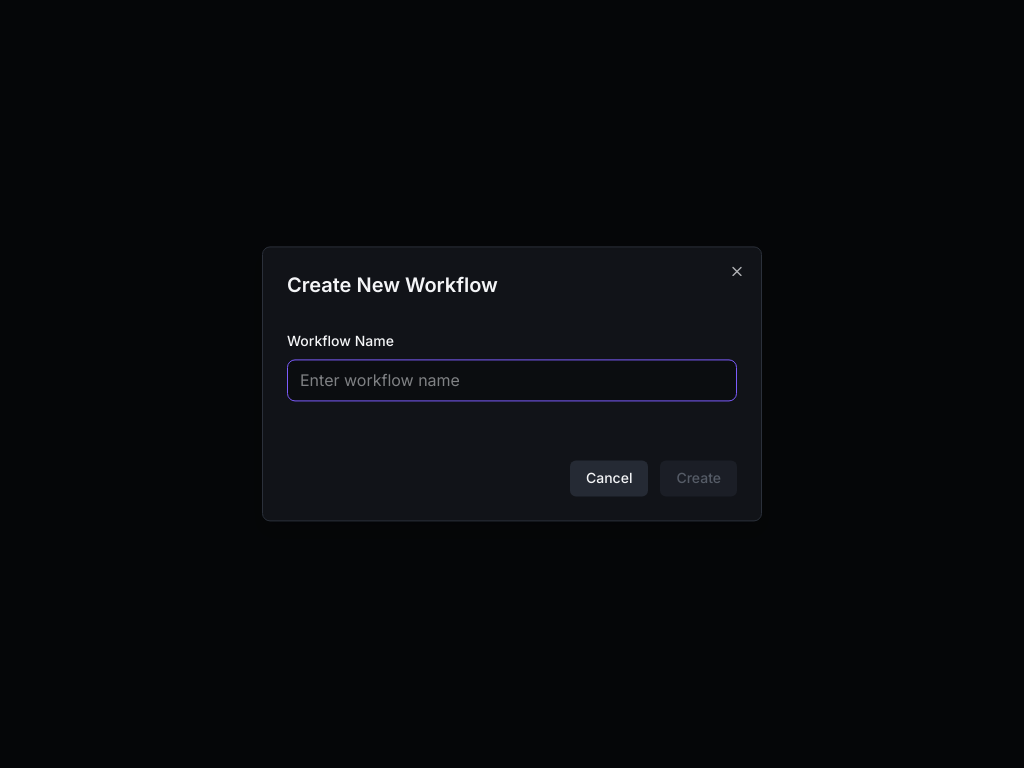
CreateWorkflowModal Integration Tests › Valid input and success state › should enable Create button when valid name is entered
Type "Valid New Name" into the field with placeholder "Enter workflow name" at (512, 380), box x1=287 y1=359 x2=737 y2=401
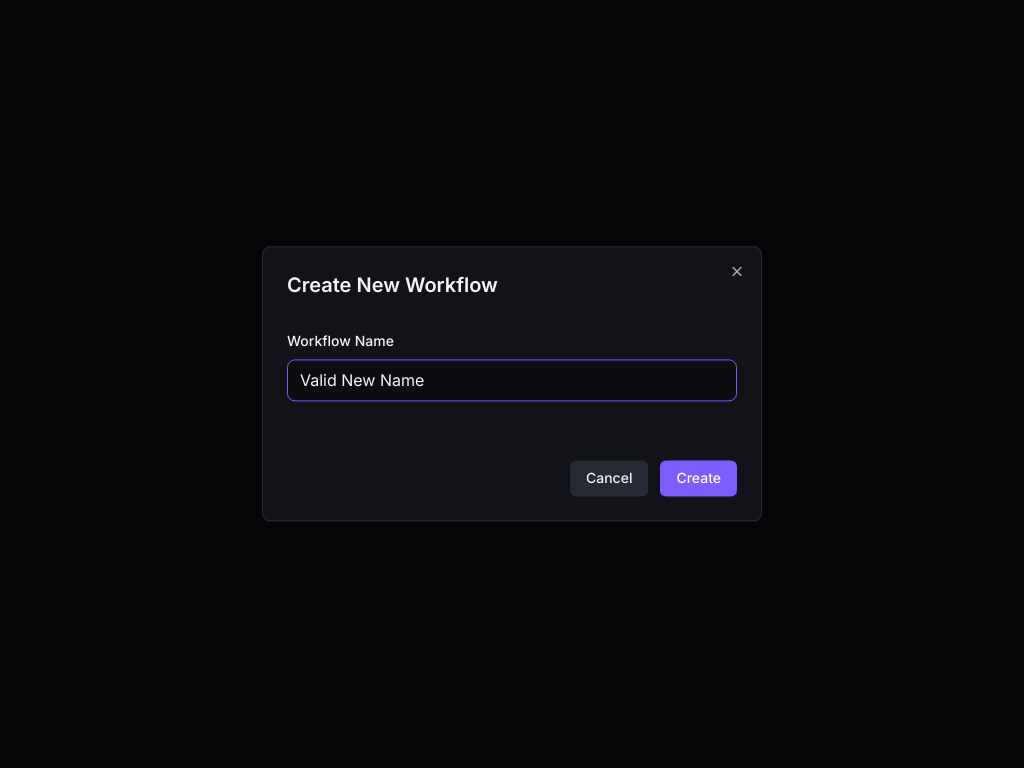
Now the button "Create" is enabled, box x1=660 y1=461 x2=737 y2=497
